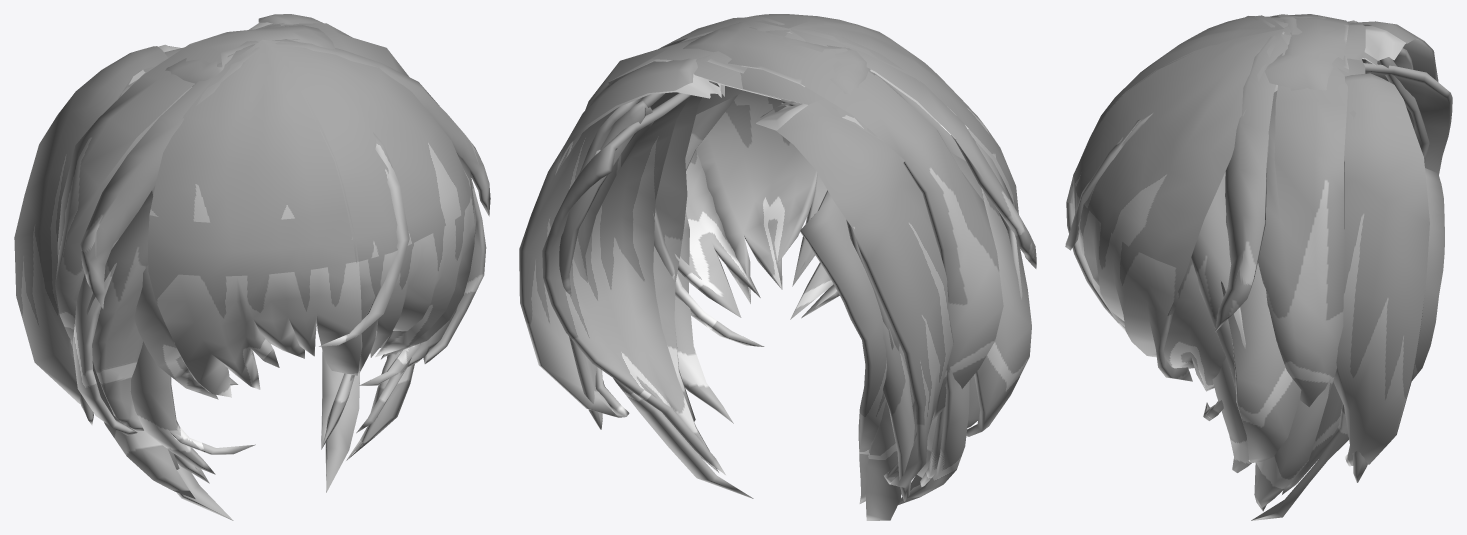
The model's file is HairFront4.fbx.
The picture shows the model from 3 angles, left to right: view 1: azimuth 30°, elevation 25°; view 2: azimuth 150°, elevation 25°; view 3: azimuth 270°, elevation 25°; orthographic projection. The views are drawn at different scales.
Parts seen in each view (by area): view 1: HairFront4_mesh; view 2: HairFront4_mesh; view 3: HairFront4_mesh.
Part boxes in pixels (<box>): HairFront4_mesh: <box>14,14,490,520</box>; HairFront4_mesh: <box>519,14,1036,520</box>; HairFront4_mesh: <box>1065,14,1452,520</box>.
Size of the model in its own units: 29.09 by 31.1 by 23.32.
Materials: 3 (3 with a texture image).
